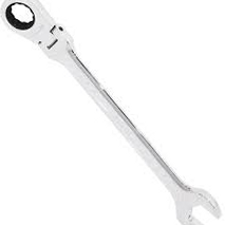Wrench: (2, 2, 217, 224)
